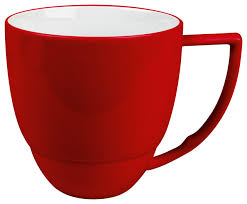cup: (4, 4, 243, 200)
